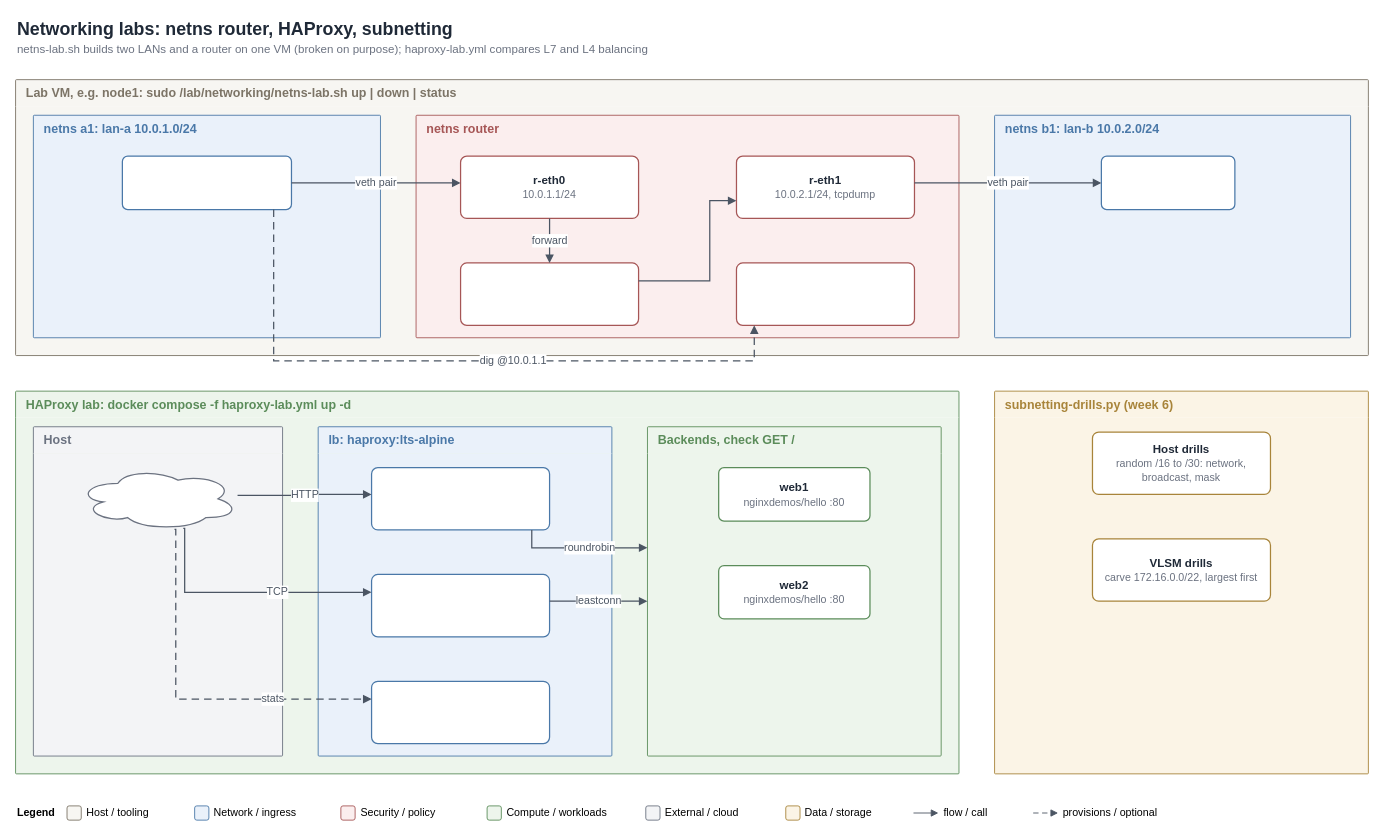
This 1384x837 diagram has some shape labels left out. The shapes that lost their labels are listed below. From the top down, each one's centre as x and y in pixels, then its label:
At point 206,182: "a1-eth0 10.0.1.10/24, curl, dig".
At point 1167,182: "b1-eth0 10.0.2.10/24, :80".
At point 549,293: "ip_forward + nftables allow tcp/80 a1 to b1, masquerade".
At point 825,293: "dnsmasq web.lab -> 10.0.2.10".
At point 157,498: "curl / browser host localhost".
At point 460,498: "frontend http_in :8080 mode http, X-LB header".
At point 460,605: "frontend tcp_in :8081 mode tcp".
At point 460,712: "frontend stats :8404 /stats".
